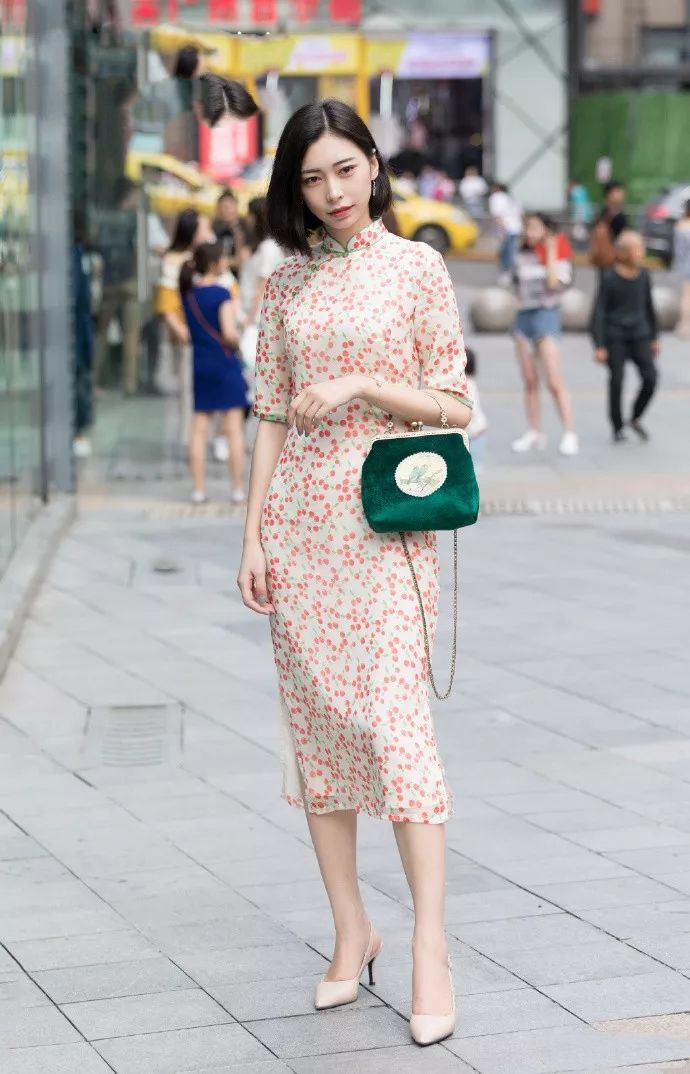person: (165, 78, 501, 937)
